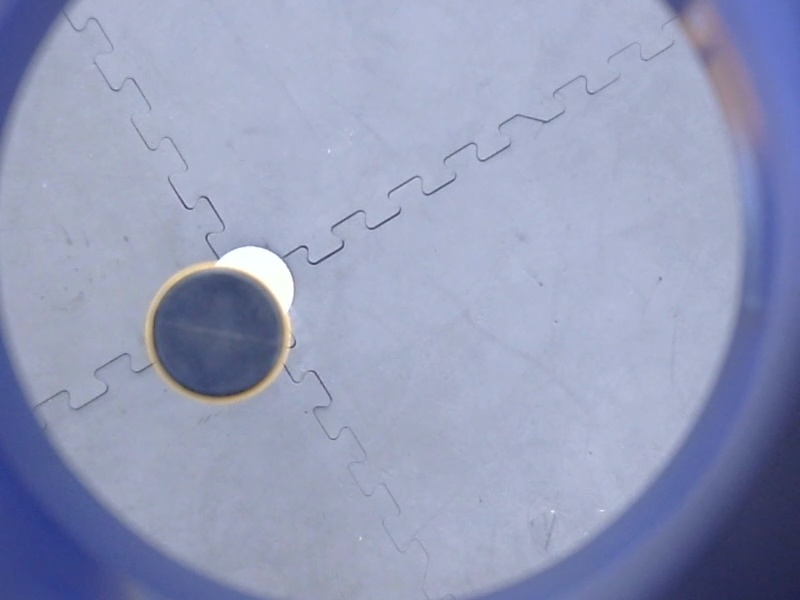tip: (137, 254, 300, 414)
